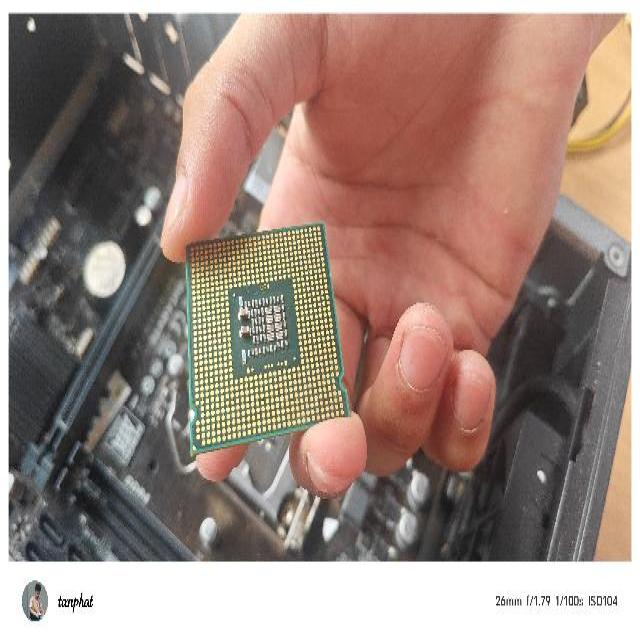CPU: (185, 219, 352, 456)
